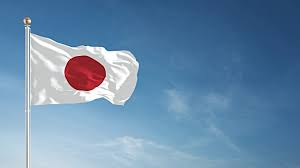Japanese Flag: (27, 31, 141, 111)
